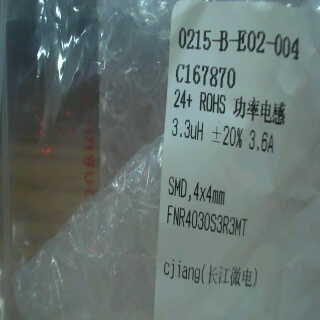3.3uH: (168, 113, 210, 149)
